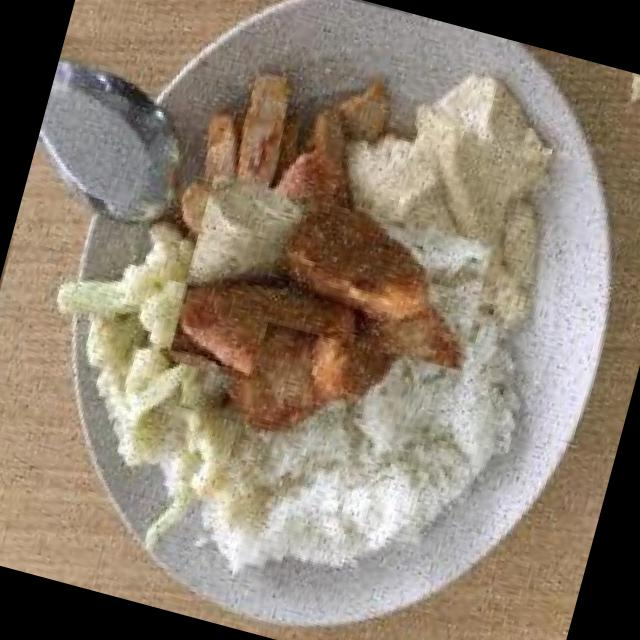rice: (200, 317, 530, 628)
triangle_hash_brown: (180, 152, 478, 452)
